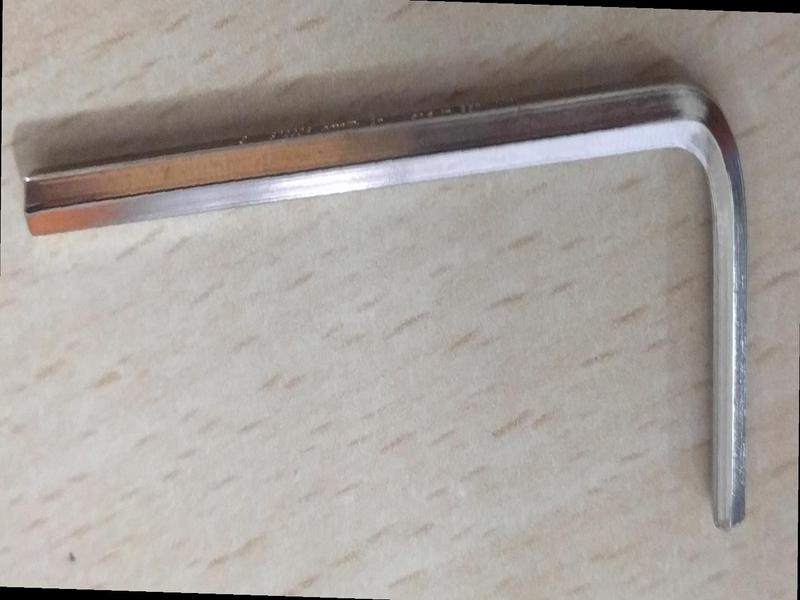turner: (16, 63, 774, 558)
